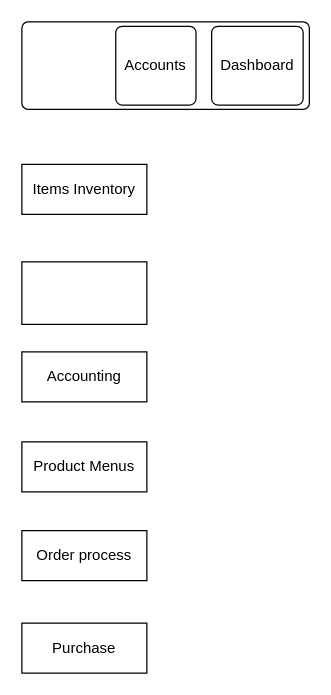
Image size: 331x695. Some labels were removed from this diagram. Each missing label, with the centre of its shape:
Login: (x=72, y=65)
Reports(Sales, Revenue, Inventory): (x=84, y=292)
